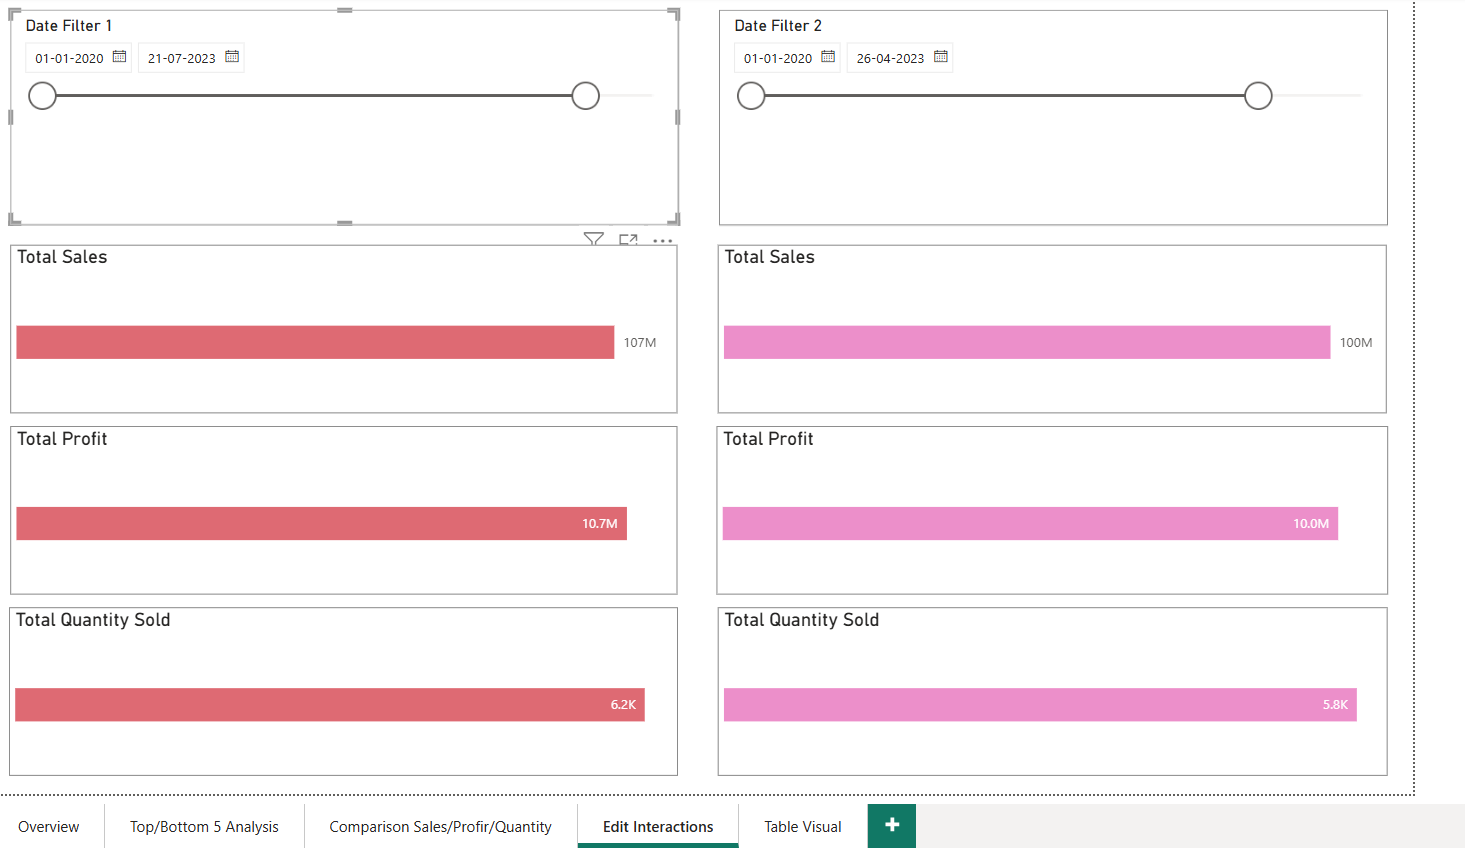

The page's visual inventory and layout, read from the dashboard file:
{"tool":"powerbi","page":{"name":"Edit Interactions","canvas":[1280,720],"ordinal":3},"visuals":[{"type":"slicer","fields":{"Values":["Fact Table.Date (dd/mm/yyyy)"]},"box":[14.7,12.2,602.9,194.4],"z":0},{"type":"slicer","fields":{"Values":["Fact Table.Date (dd/mm/yyyy)"]},"box":[654.2,12.2,602.9,194.4],"z":1000},{"type":"barChart","title":"Total Sales ","fields":{"Y":["Sum(Fact Table.Net Sales )"]},"box":[14.7,223.8,601.6,151.6],"z":2000},{"type":"barChart","title":"Total Profit","fields":{"Y":["Sum(Fact Table.Profit)"]},"box":[14.7,387.6,601.6,151.6],"z":3000},{"type":"barChart","title":"Total Quantity Sold","fields":{"Y":["Sum(Fact Table.Units Sold)"]},"box":[13.5,551.5,602.9,151.6],"z":4000},{"type":"barChart","title":"Total Sales ","fields":{"Y":["Sum(Fact Table.Net Sales )"]},"box":[653,223.8,602.9,151.6],"z":5000},{"type":"barChart","title":"Total Profit","fields":{"Y":["Sum(Fact Table.Profit)"]},"box":[651.8,387.6,605.3,151.6],"z":6000},{"type":"barChart","title":"Total Quantity Sold","fields":{"Y":["Sum(Fact Table.Units Sold)"]},"box":[653,551.5,604.1,151.6],"z":7000}]}

Visuals, with their boxes on the page's 1280x720 design canvas (x1, y1, x2, y2). These are canvas units, not pixel positions in the 1465x848 screenshot, which may show the page scaled, cropped or inside an application window:
slicer - Fact Table.Date (dd/mm/yyyy): bbox=[15, 12, 618, 207]
slicer - Fact Table.Date (dd/mm/yyyy): bbox=[654, 12, 1257, 207]
"Total Sales " barChart: bbox=[15, 224, 616, 375]
"Total Profit" barChart: bbox=[15, 388, 616, 539]
"Total Quantity Sold" barChart: bbox=[14, 552, 616, 703]
"Total Sales " barChart: bbox=[653, 224, 1256, 375]
"Total Profit" barChart: bbox=[652, 388, 1257, 539]
"Total Quantity Sold" barChart: bbox=[653, 552, 1257, 703]
